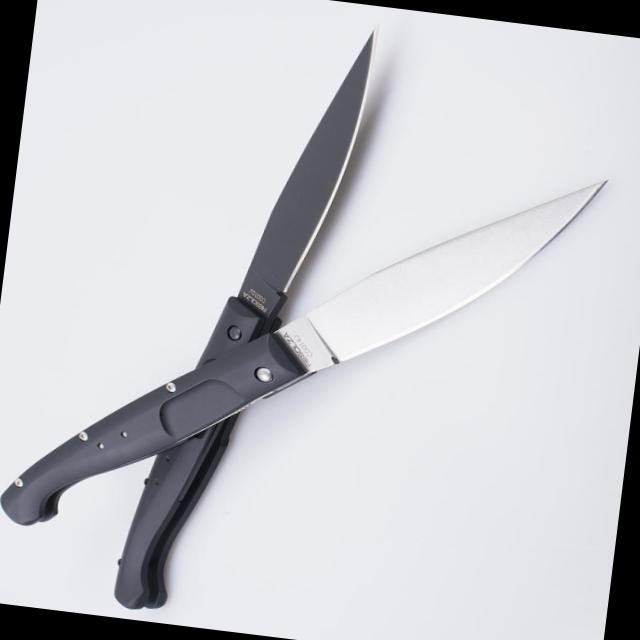knife: (260, 131, 617, 412), (226, 11, 382, 338)
